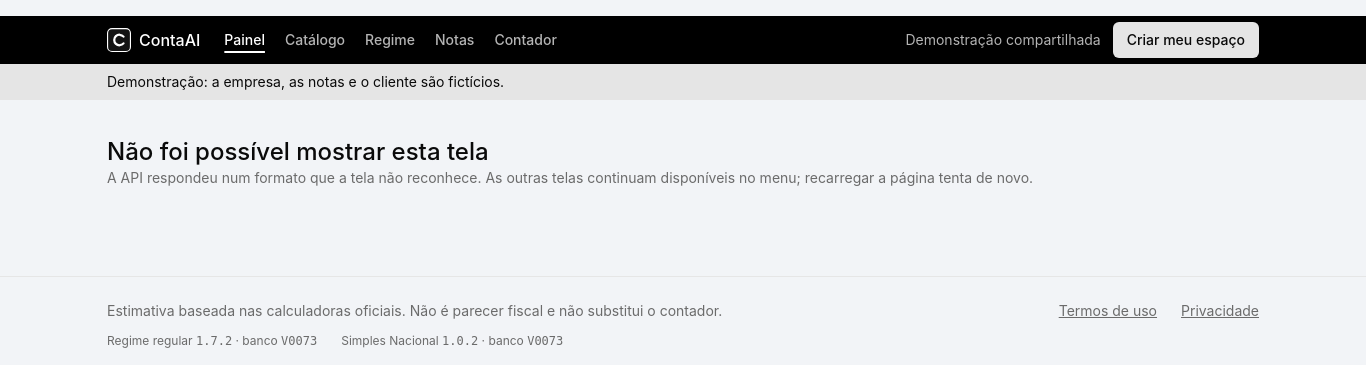
Test: estado da sessão na barra › modo real: cria o espaço, mostra o aviso da API e o prazo, e sai
The width and height of the screenshot is (1366, 365).
(page scrolled)
Expected: the text "Demonstração compartilhada" is shown, [905,30,1101,50]
Click the button "Criar meu espaço" at point(1186, 40), box [1113,22,1259,58]
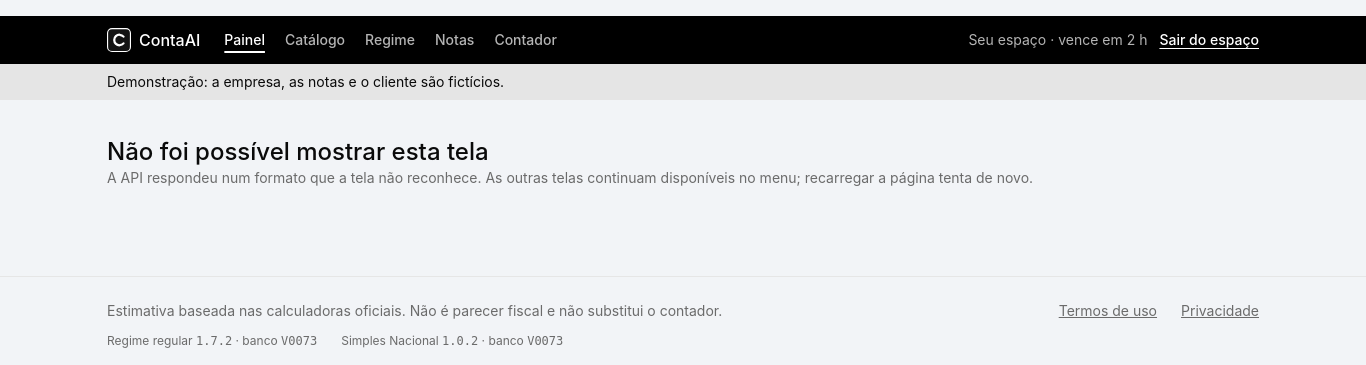
Now the text "Seu espaço · vence em 2 h" is shown, box [968,30,1147,50]
Click the button "Sair do espaço" at point(1209, 40), box [1159,30,1259,50]
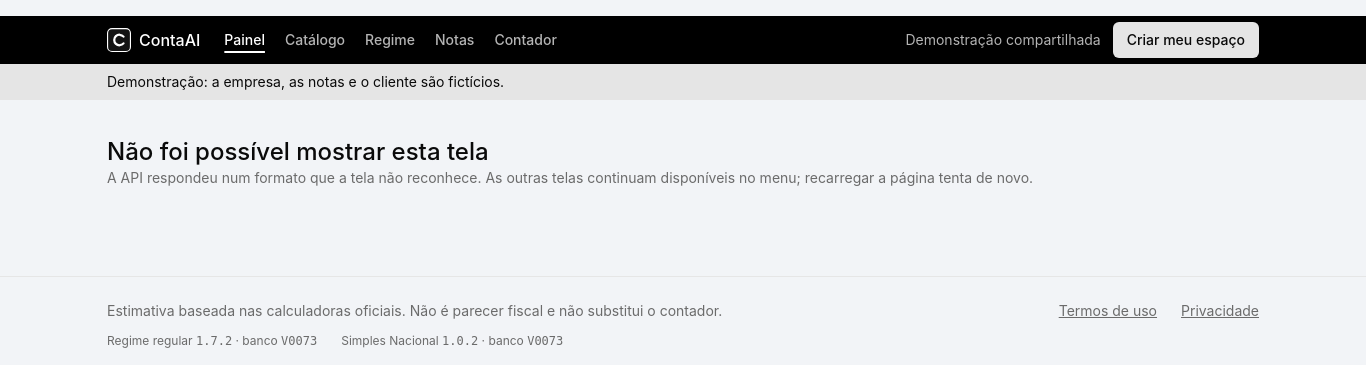
Now the button "Criar meu espaço" is shown, box [1113,22,1259,58]
